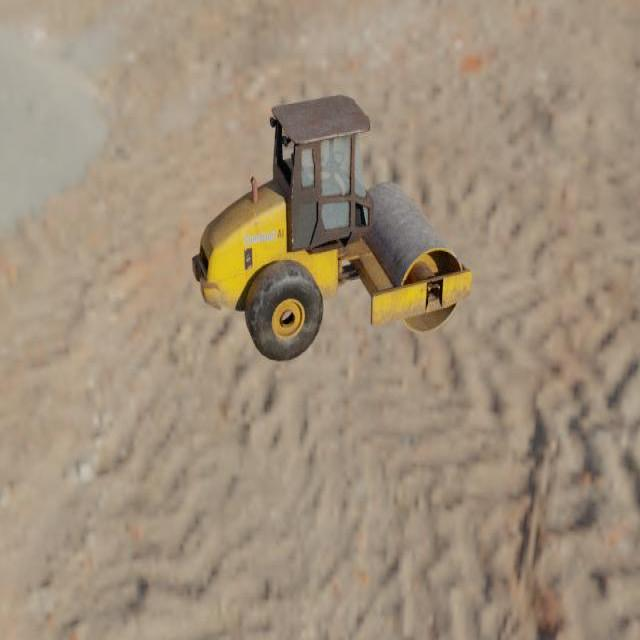Roller: (191, 94, 472, 362)
